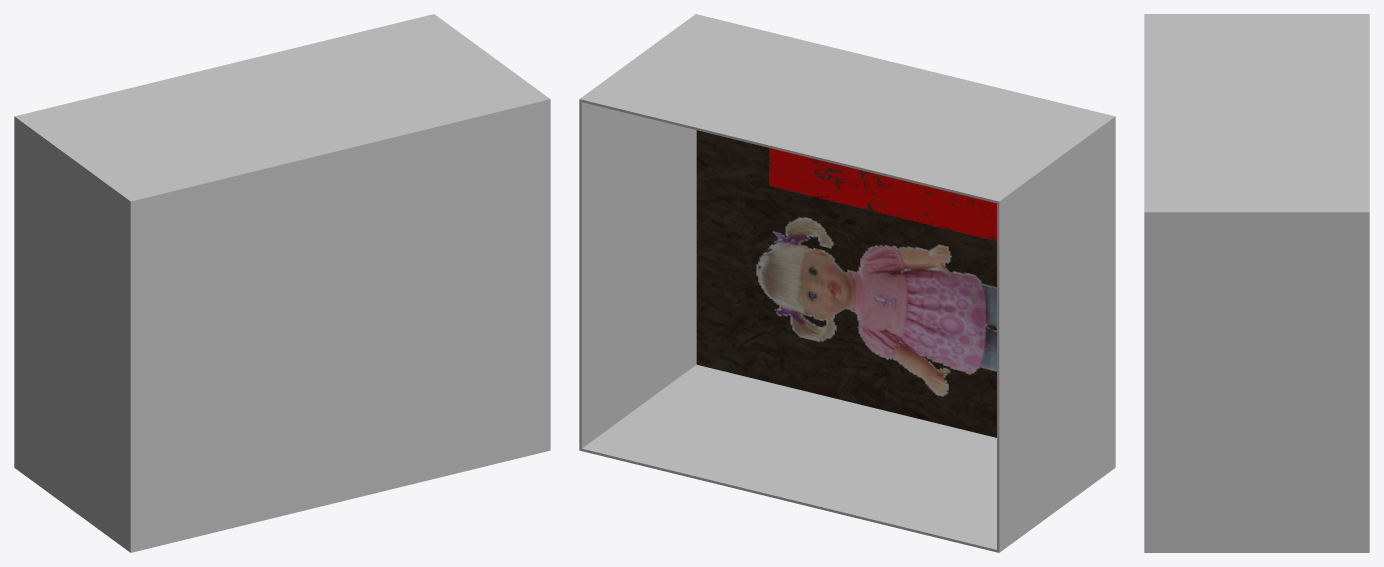
The model's file is victim_with_box_t.dae.
3 renders of one model, left to right at view 1: azimuth 30°, elevation 25°; view 2: azimuth 150°, elevation 25°; view 3: azimuth 270°, elevation 25°, orthographic. The views are drawn at different scales.
Visible parts, largest first — view 1: Cube; view 2: Cube; view 3: Cube.
Part boxes in pixels (<box>): Cube: <box>14,14,550,552</box>; Cube: <box>579,14,1115,552</box>; Cube: <box>1144,14,1369,552</box>.
Size of the model in its own units: 0.5 by 0.24 by 0.4.
